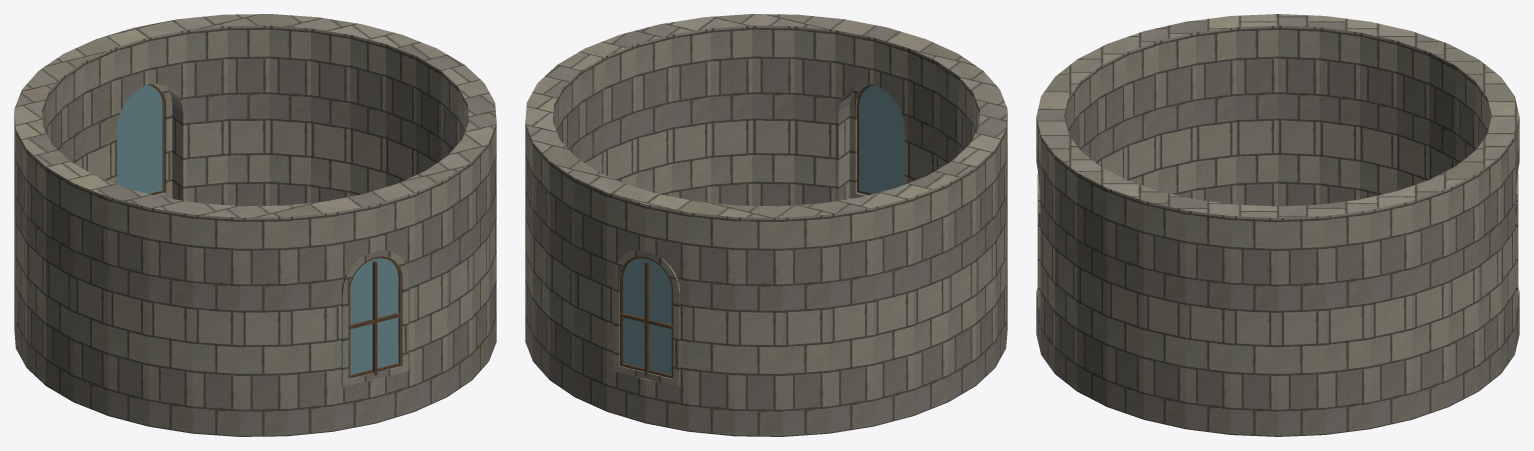
Rendered from Furn_Tower_Round.fbx.
The picture shows the model from 3 angles, left to right: view 1: azimuth 30°, elevation 25°; view 2: azimuth 150°, elevation 25°; view 3: azimuth 270°, elevation 25°; orthographic projection.
Parts seen in each view (by area): view 1: Furn_Tower_Round_Mesh; view 2: Furn_Tower_Round_Mesh; view 3: Furn_Tower_Round_Mesh.
Boxes of the visible parts, <box> form: Furn_Tower_Round_Mesh: <box>14,14,496,436</box>; Furn_Tower_Round_Mesh: <box>525,14,1007,436</box>; Furn_Tower_Round_Mesh: <box>1036,14,1519,436</box>.
Bounding box in the file's own units: 7 × 3.5 × 7.
